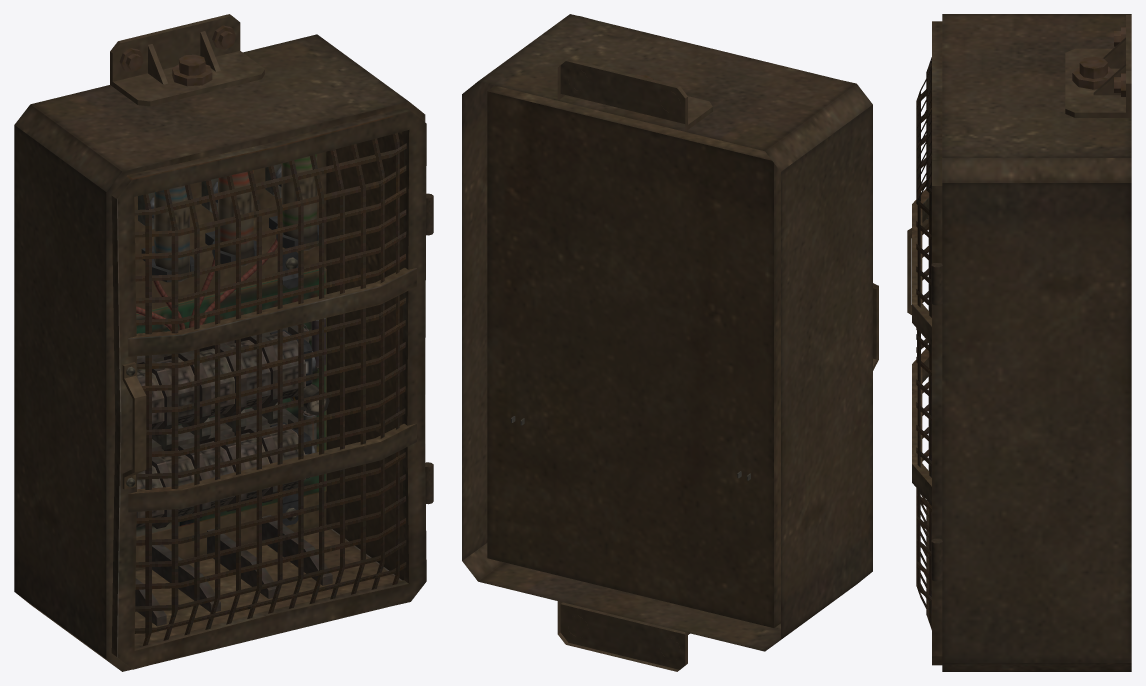
File: fuse_box_etx_1_1.obj
The picture shows the model from 3 angles, left to right: view 1: azimuth 30°, elevation 25°; view 2: azimuth 150°, elevation 25°; view 3: azimuth 270°, elevation 25°; orthographic projection. The views are drawn at different scales.
Visible parts, largest first — view 1: fuse_box_etx_1_1, fuse_box_etx_1_1_door, fuse_etx_green_1, fuse_etx_blue_1, fuse_etx_red_1, fuse_box_etx_1_1_puzzle_piece_child_4, fuse_box_etx_1_1_puzzle_piece_child_2, fuse_box_etx_1_1_puzzle_piece_child_3, fuse_box_etx_1_1_puzzle_piece_child_1, fuse_box_etx_1_1_puzzle_piece_child_9, fuse_box_etx_1_1_puzzle_piece_child_7, fuse_box_etx_1_1_puzzle_piece_child_8 (+1 smaller); view 2: fuse_box_etx_1_1; view 3: fuse_box_etx_1_1, fuse_box_etx_1_1_door.
Part boxes in pixels (x1,y1,x2,y2): fuse_box_etx_1_1: (14, 14, 425, 671); fuse_box_etx_1_1_door: (111, 107, 433, 669); fuse_etx_green_1: (281, 154, 317, 250); fuse_etx_blue_1: (154, 185, 189, 282); fuse_etx_red_1: (218, 170, 253, 266); fuse_box_etx_1_1_puzzle_piece_child_4: (263, 331, 305, 399); fuse_box_etx_1_1_puzzle_piece_child_2: (192, 348, 234, 417); fuse_box_etx_1_1_puzzle_piece_child_3: (227, 340, 270, 408); fuse_box_etx_1_1_puzzle_piece_child_1: (156, 357, 194, 424); fuse_box_etx_1_1_puzzle_piece_child_9: (262, 424, 305, 491); fuse_box_etx_1_1_puzzle_piece_child_7: (192, 441, 234, 509); fuse_box_etx_1_1_puzzle_piece_child_8: (227, 432, 270, 500); fuse_box_etx_1_1: (462, 14, 872, 671); fuse_box_etx_1_1: (942, 14, 1131, 671); fuse_box_etx_1_1_door: (907, 21, 942, 665).
Size of the model in its own units: 0.548 by 0.945 by 0.32.
